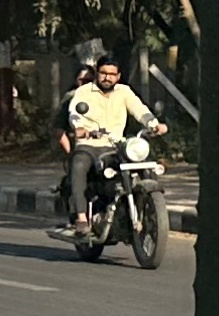BikeWithRider: (38, 49, 176, 272)
NoHelmet: (89, 52, 127, 92), (65, 59, 101, 92)
